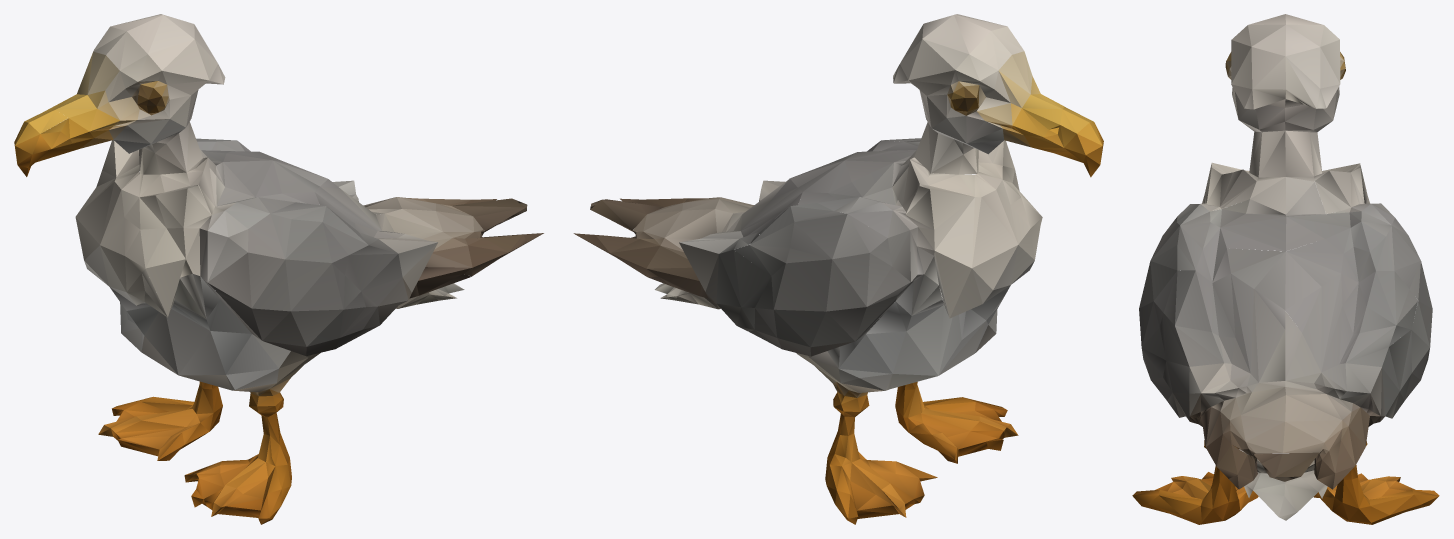
File: animal-seagull.glb
3 views of the same model, side by side, from view 1: azimuth 30°, elevation 25°; view 2: azimuth 150°, elevation 25°; view 3: azimuth 270°, elevation 25° (orthographic).
Visible parts, largest first — view 1: 0_seagull; view 2: 0_seagull; view 3: 0_seagull.
Boxes of the visible parts, x1,y1,x2,y2 form: 0_seagull: (14,14,543,524); 0_seagull: (573,14,1103,524); 0_seagull: (1132,14,1439,524).
Size of the model in its own units: 0.5 by 0.4321 by 0.259.
